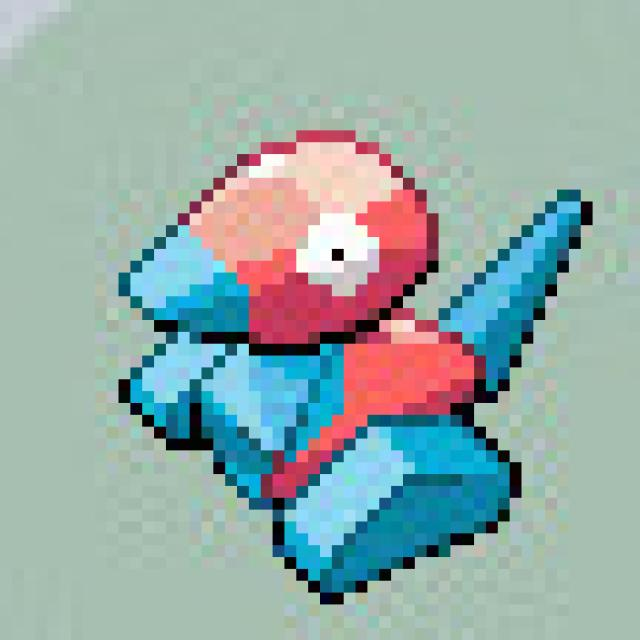Porygon: (127, 134, 506, 547)
